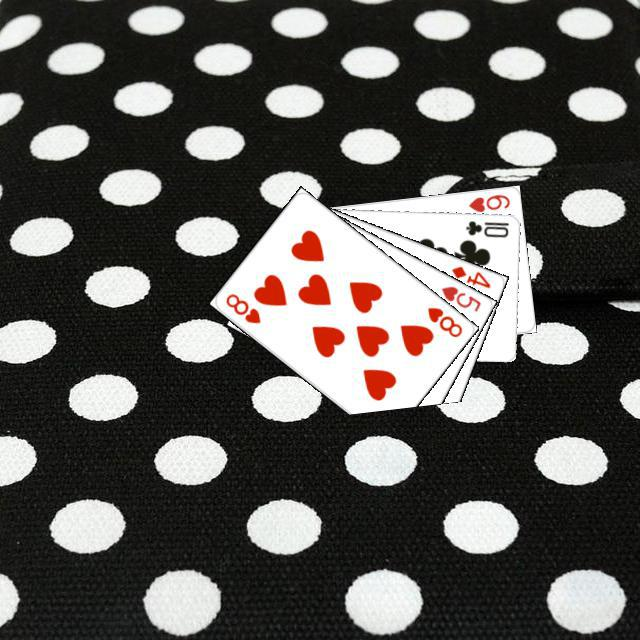10c: (461, 216, 510, 239)
4d: (447, 261, 492, 290)
5h: (436, 281, 482, 313)
6h: (464, 189, 511, 214)
8h: (422, 302, 464, 339), (221, 289, 262, 325)
